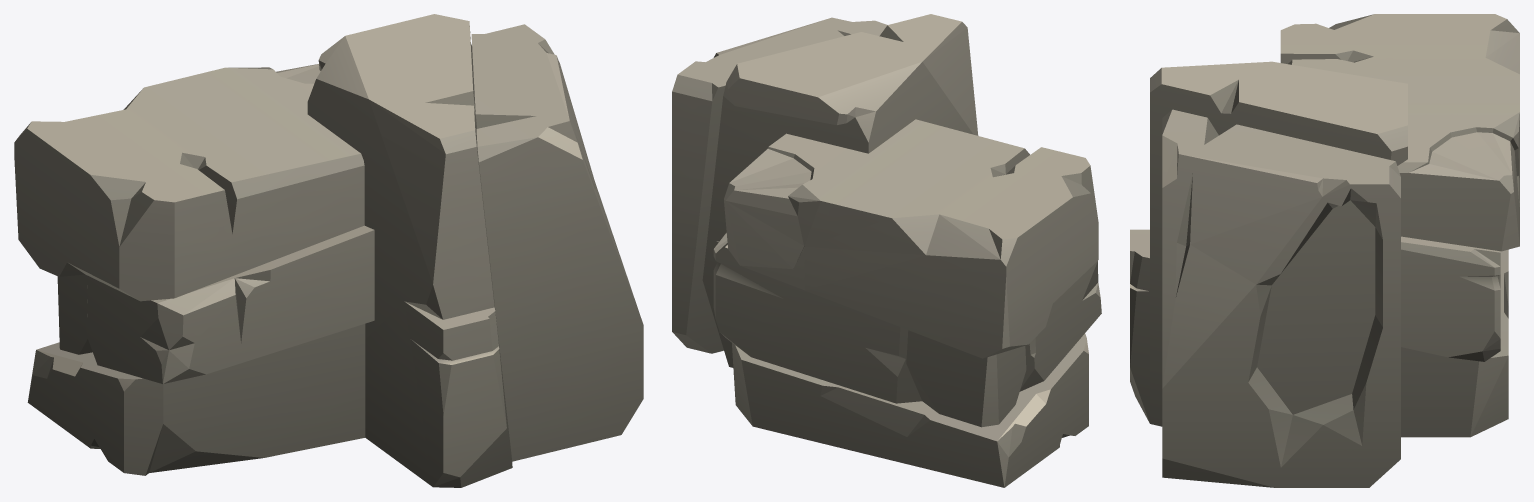
File: Rock_Large_3A.fbx
3 renders of one model, left to right at view 1: azimuth 30°, elevation 25°; view 2: azimuth 150°, elevation 25°; view 3: azimuth 270°, elevation 25°, orthographic. The views are drawn at different scales.
Visible parts, largest first — view 1: Rock_Large_3A; view 2: Rock_Large_3A; view 3: Rock_Large_3A.
Boxes of the visible parts, x1,y1,x2,y2 form: Rock_Large_3A: [14, 14, 643, 487]; Rock_Large_3A: [672, 14, 1101, 487]; Rock_Large_3A: [1130, 14, 1519, 487].
Size of the model in its own units: 4.07 by 3 by 3.26.
